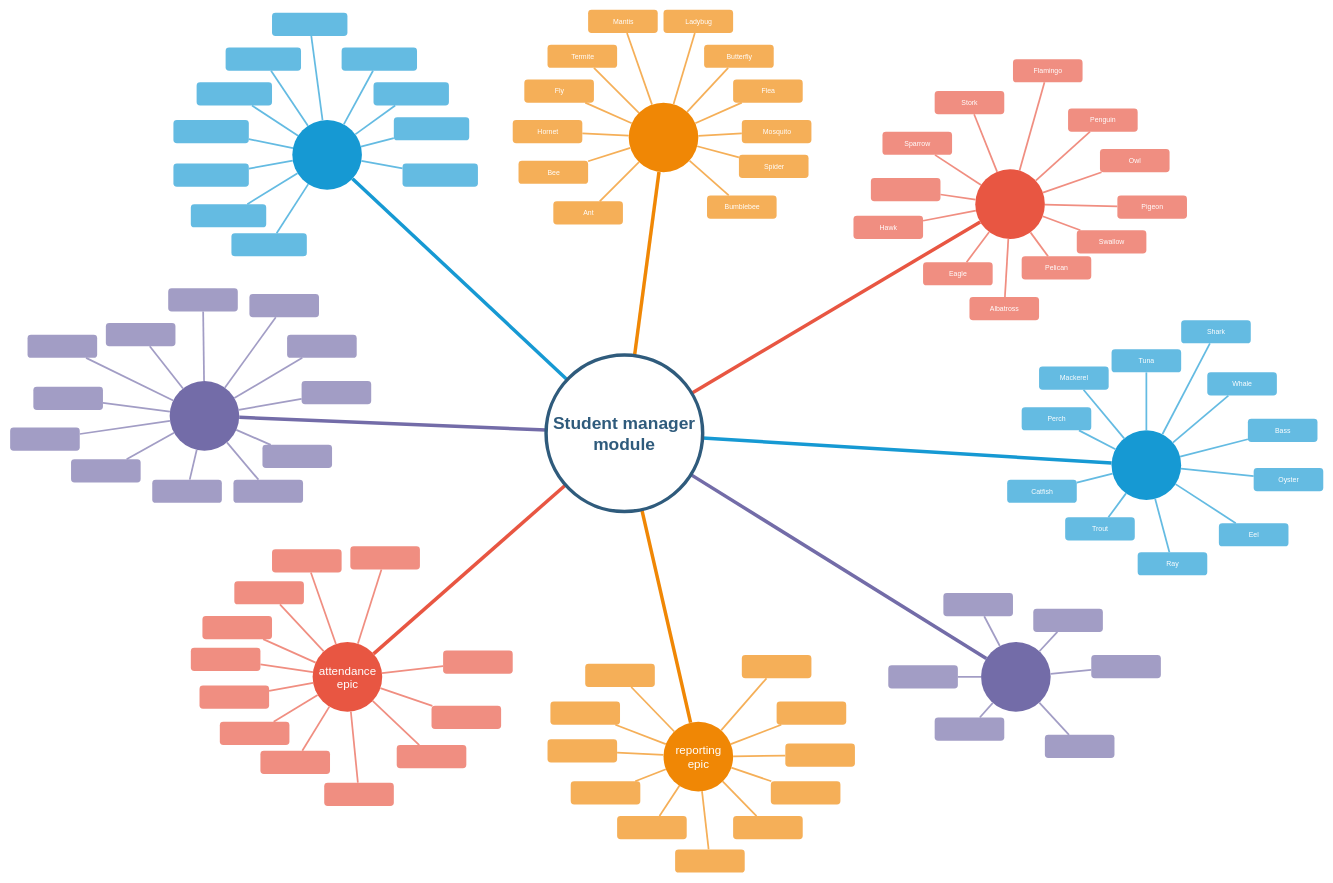
Some shapes in this 1333 by 883 pixel diagram are drawn without their labels. Here are the shapes that lost their labels. From the top down, the box of each, then its label:
(871, 178, 940, 201): Falcon
(981, 642, 1050, 711): email (see attendance)
